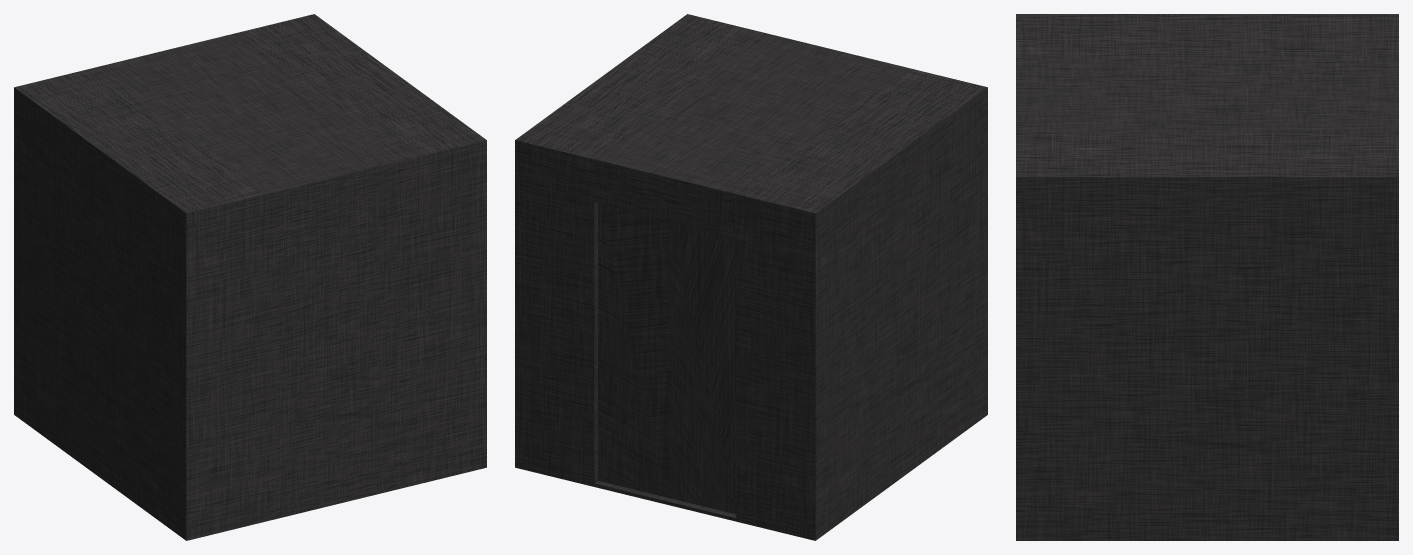
The model's file is Lift_Mrt.fbx.
3 renders of one model, left to right at view 1: azimuth 30°, elevation 25°; view 2: azimuth 150°, elevation 25°; view 3: azimuth 270°, elevation 25°, orthographic. The views are drawn at different scales.
Parts seen in each view (by area): view 1: Lift; view 2: Lift, Door_L, Door_R; view 3: Lift.
Boxes of the visible parts, x1,y1,x2,y2 form: Lift: (14,14,486,540); Lift: (515,14,987,540); Door_L: (598,203,669,497); Door_R: (669,221,736,514); Lift: (1016,14,1398,540).
Size of the model in its own units: 283 by 295 by 281.
